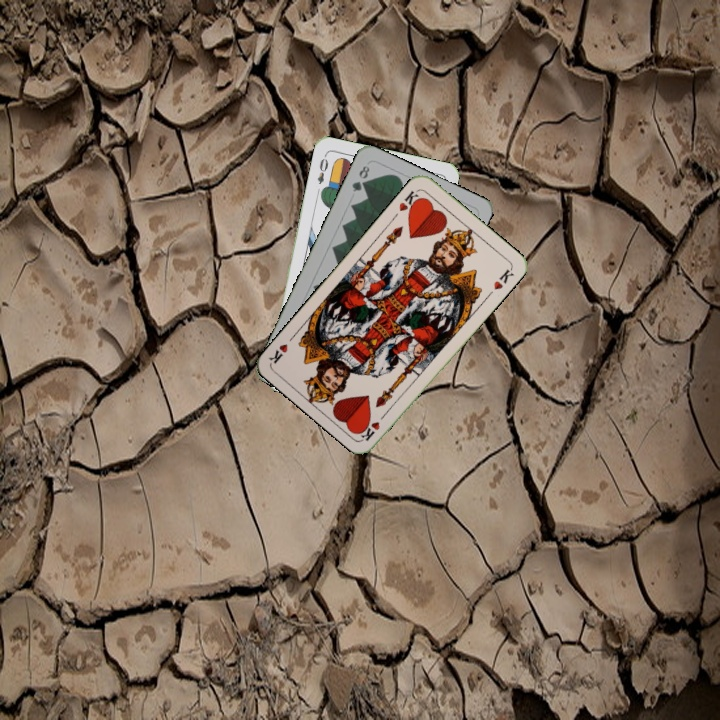EO: (313, 151, 331, 187)
G8: (348, 161, 372, 194)
HK: (357, 408, 390, 443), (395, 186, 424, 215)
